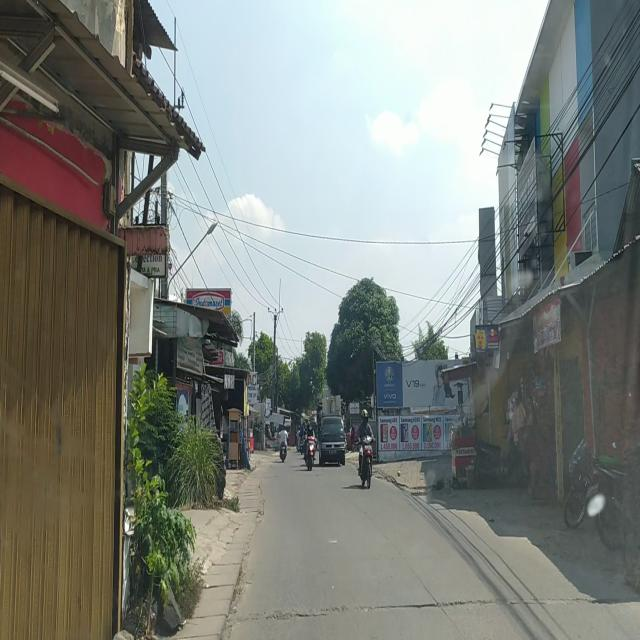Sewer Cover: (282, 596, 518, 619)
